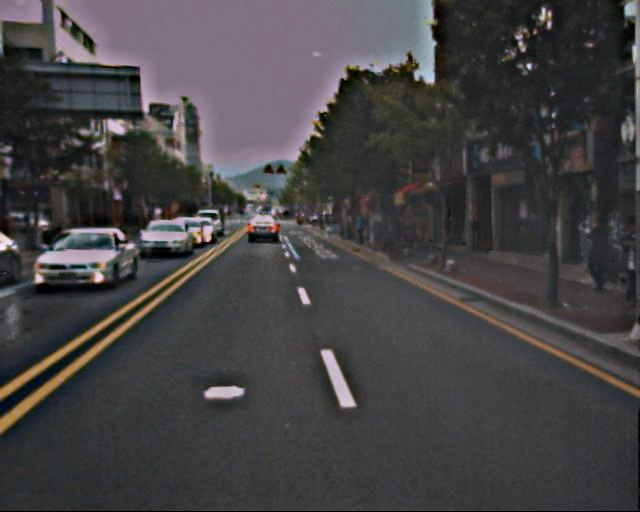person: (603, 215, 640, 299), (579, 215, 615, 293)
